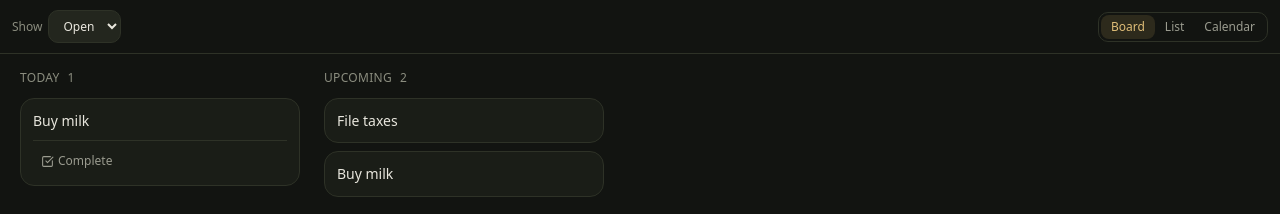
Test: BoardView representations (#767) › switches to the List view: one deduped row per card, structured columns, refetch with ?view=
The width and height of the screenshot is (1280, 214).
Step 1. Click the button "List" → (1175, 26), box [1155,14,1194,38]
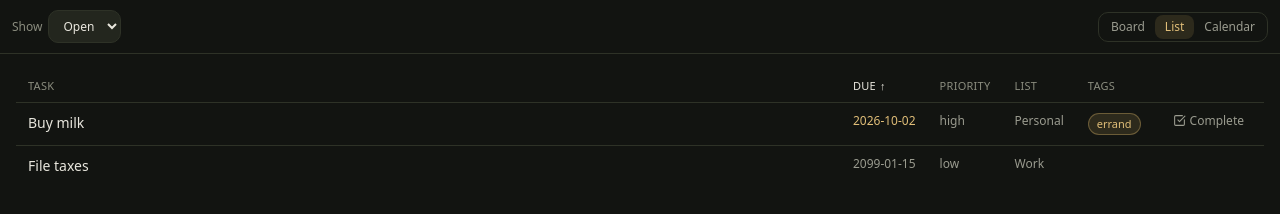
Now the text "Buy milk" is shown once, box [28,113,84,132]
Now the text "high" is shown, box [928,102,1002,145]
Now the text "Personal" is shown, box [1002,102,1076,145]
